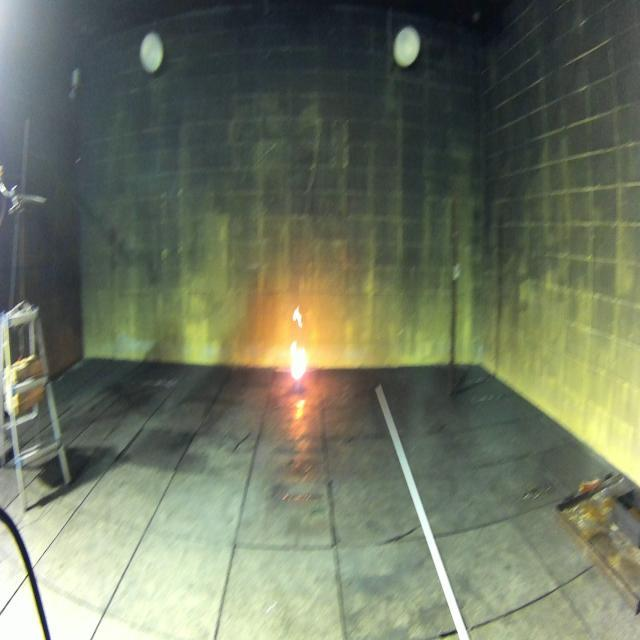Fire: (290, 304, 307, 380)
